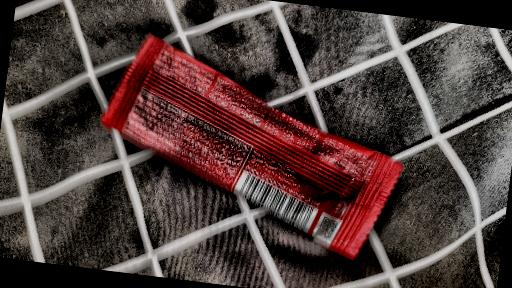chocho: (107, 29, 395, 275)
